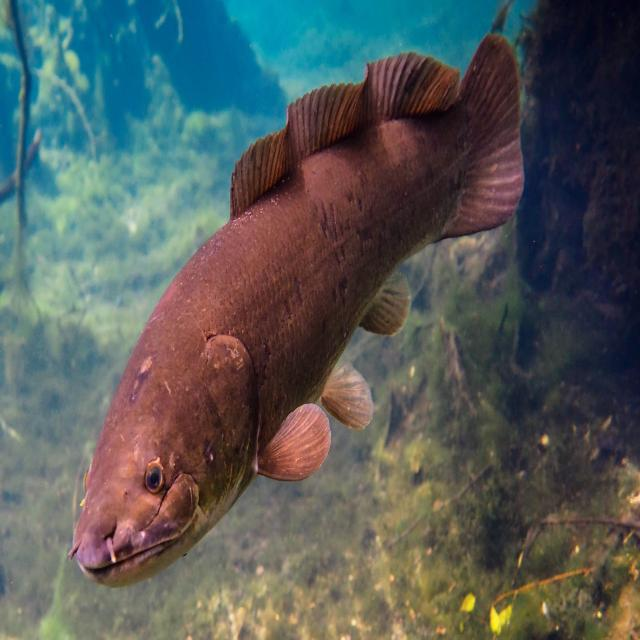Bowfin: (70, 34, 524, 586)
